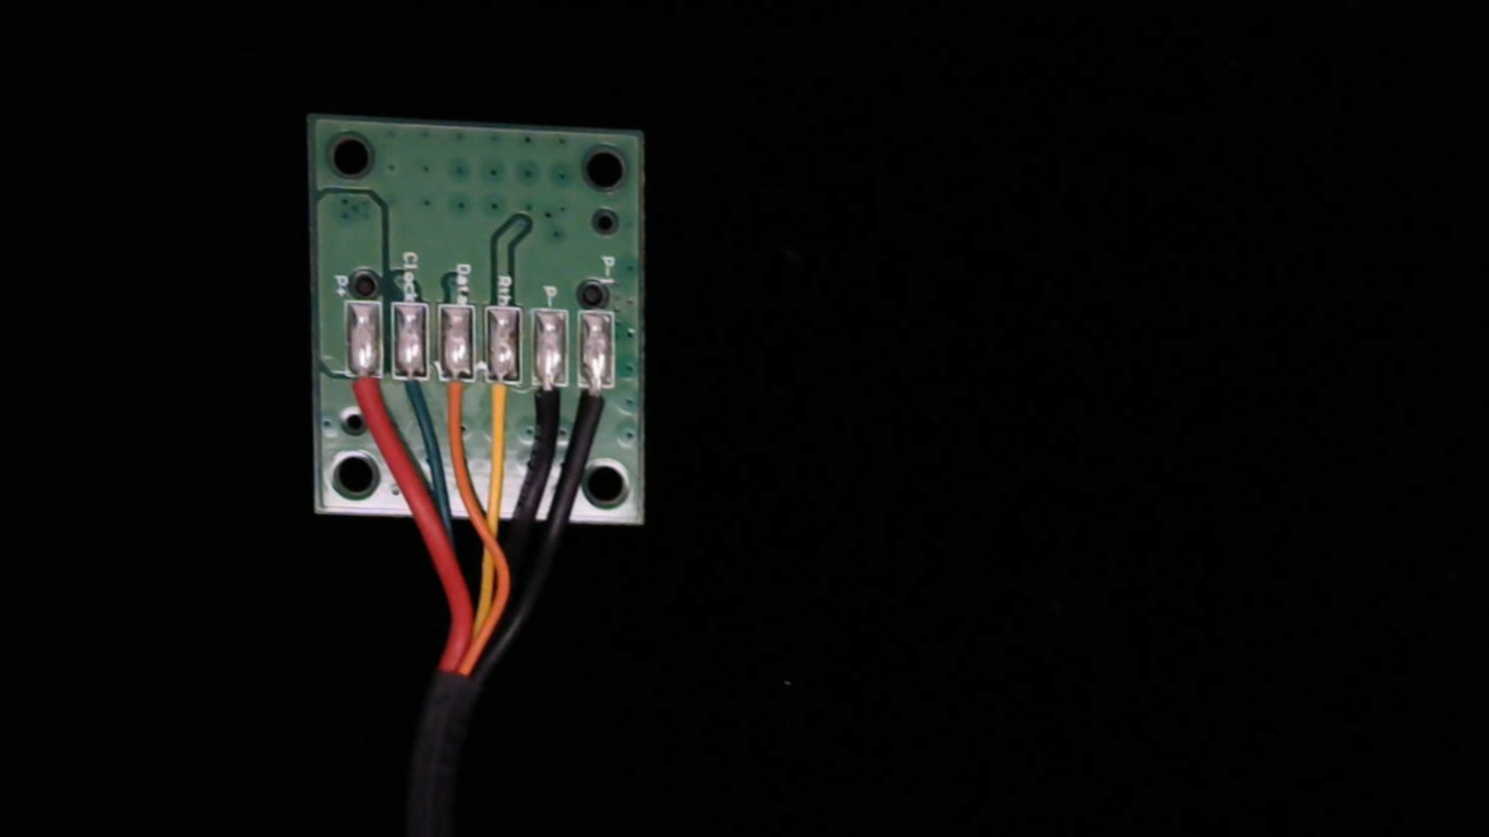Black: (528, 368, 571, 438)
Black1: (578, 366, 618, 428)
Green: (392, 364, 432, 423)
Orange: (441, 362, 477, 441)
Red: (348, 361, 386, 432)
Yellow: (480, 361, 518, 446)
